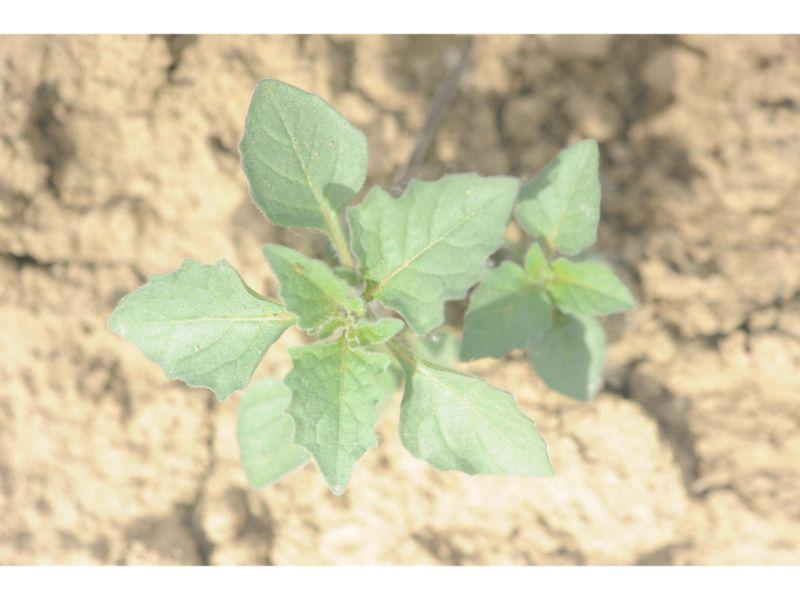nightshade: (106, 78, 636, 500)
